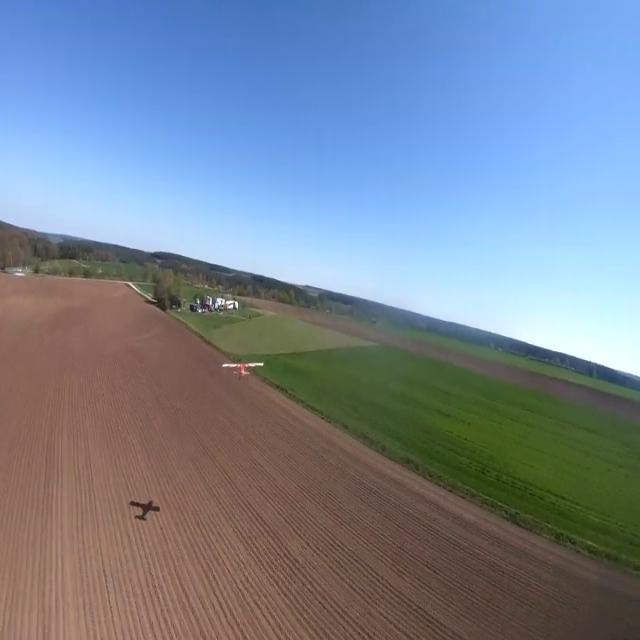iha: (222, 358, 264, 381)
